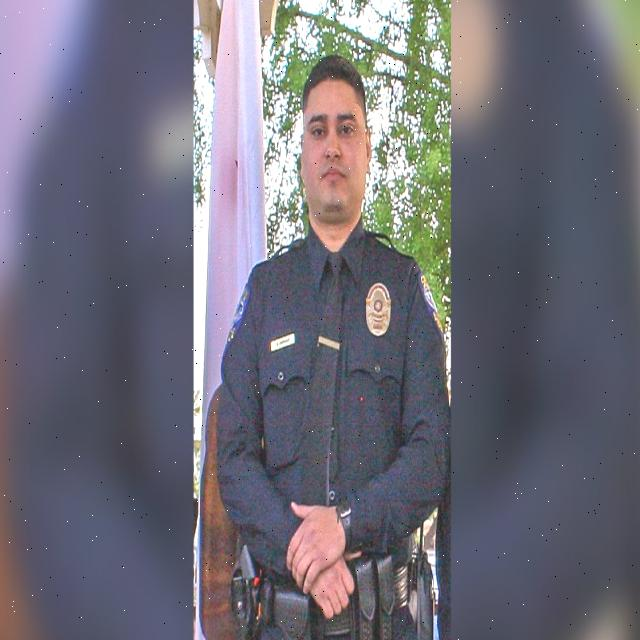police: (217, 20, 436, 640)
